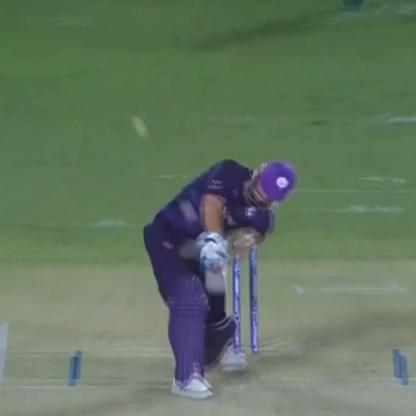ball: (127, 124, 154, 138), (123, 115, 147, 127)
bat: (194, 235, 236, 306)
